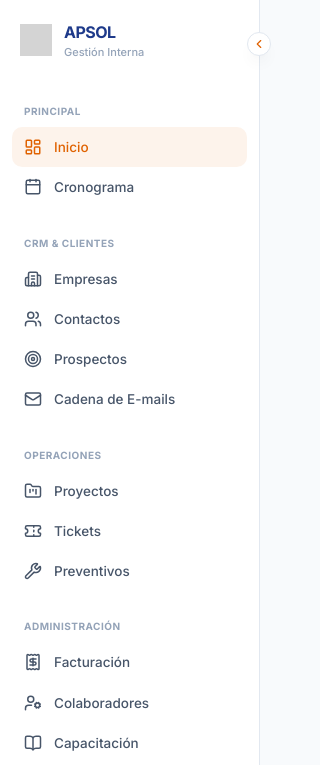
Test case: Componente Sidebar › debe colapsar el sidebar al pulsar el botón manualmente
The width and height of the screenshot is (320, 765).
Note: Pulsamos el botón
Click the button titled "Colapsar" at (259, 44), box [247,32,271,56]
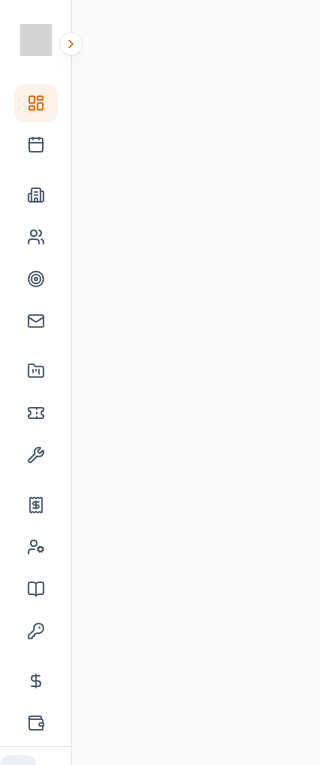
Result: the button titled "Expandir" is shown at [59,32,83,56]
